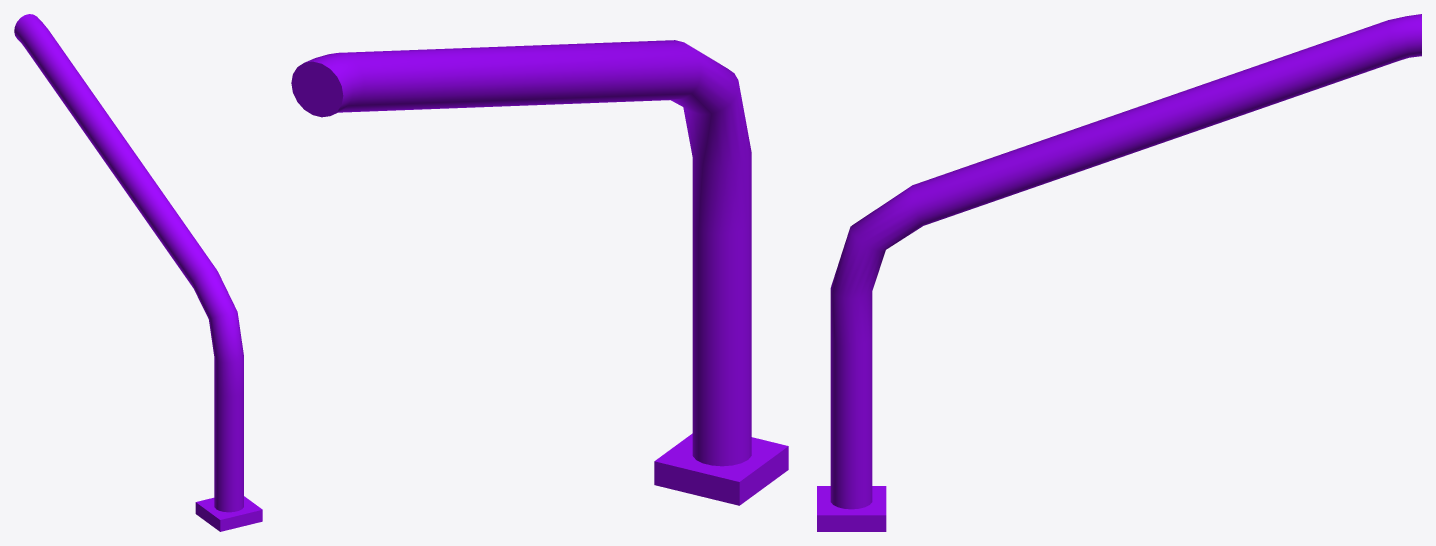
The model's file is Valla1.FBX.
3 renders of one model, left to right at view 1: azimuth 30°, elevation 25°; view 2: azimuth 150°, elevation 25°; view 3: azimuth 270°, elevation 25°, orthographic. The views are drawn at different scales.
Parts seen in each view (by area): view 1: Valla1; view 2: Valla1; view 3: Valla1.
Part boxes in pixels (left/top/right/bottom): Valla1: left=14, top=14, right=262, bottom=531; Valla1: left=291, top=40, right=788, bottom=505; Valla1: left=817, top=14, right=1421, bottom=531.
Bounding box in the file's own units: 8.35 × 66.66 × 72.89.
